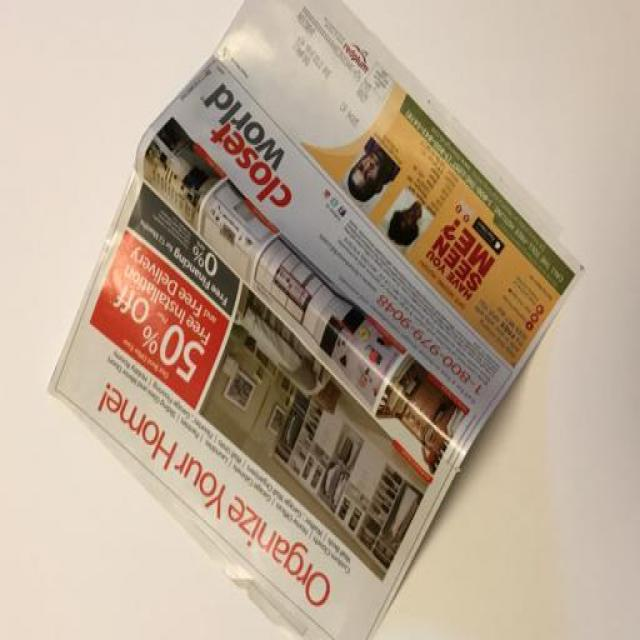paper: (58, 1, 574, 639)
